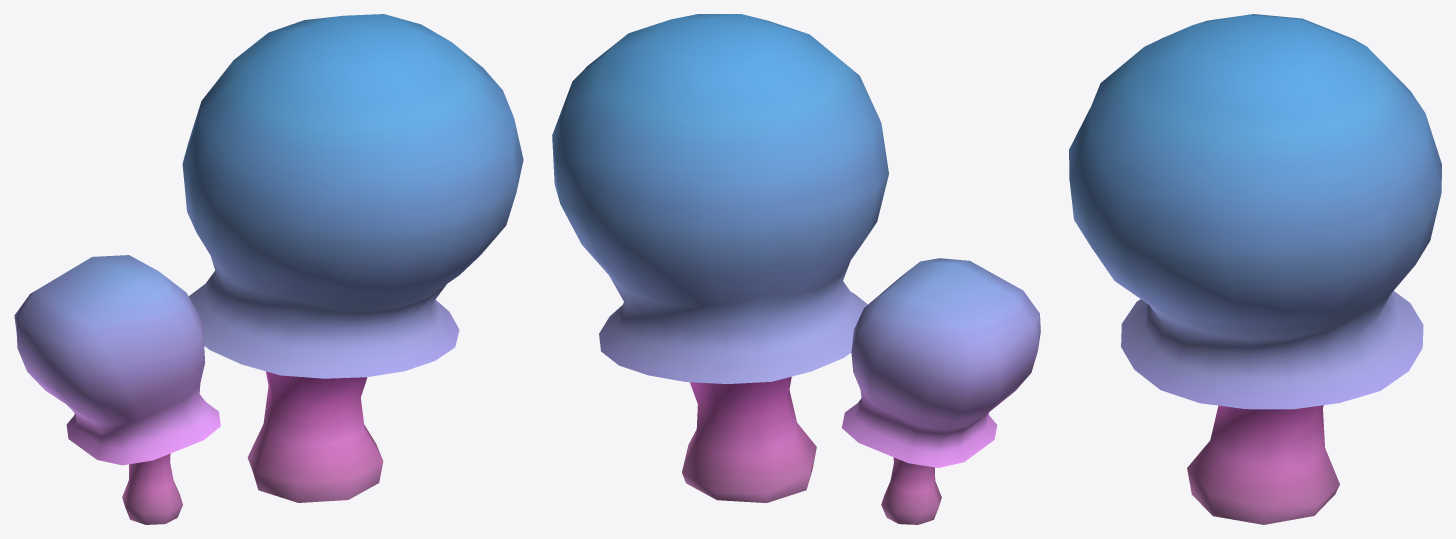
Rendered from Mushroom_02.glb.
The picture shows the model from 3 angles, left to right: view 1: azimuth 30°, elevation 25°; view 2: azimuth 150°, elevation 25°; view 3: azimuth 270°, elevation 25°; orthographic projection. The views are drawn at different scales.
Visible parts, largest first — view 1: Mushroom_02; view 2: Mushroom_02; view 3: Mushroom_02.
Boxes of the visible parts, left/top/right/bottom form: Mushroom_02: left=14, top=14, right=523, bottom=524; Mushroom_02: left=552, top=14, right=1040, bottom=524; Mushroom_02: left=1069, top=14, right=1441, bottom=524.
Bounding box in the file's own units: 4.85 × 4.43 × 3.11.
Materials: 1 (1 with a texture image).
